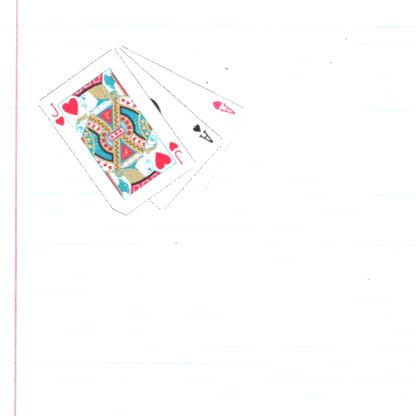AH: (210, 97, 238, 116)
AS: (190, 121, 215, 144)
JH: (166, 138, 185, 166), (47, 99, 66, 127)
